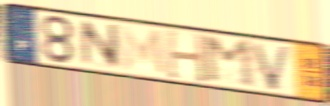8: (40, 14, 76, 65)
H: (165, 28, 209, 86)
M: (201, 35, 259, 90), (119, 24, 169, 78)
N: (80, 19, 122, 71)
V: (249, 40, 294, 92)
